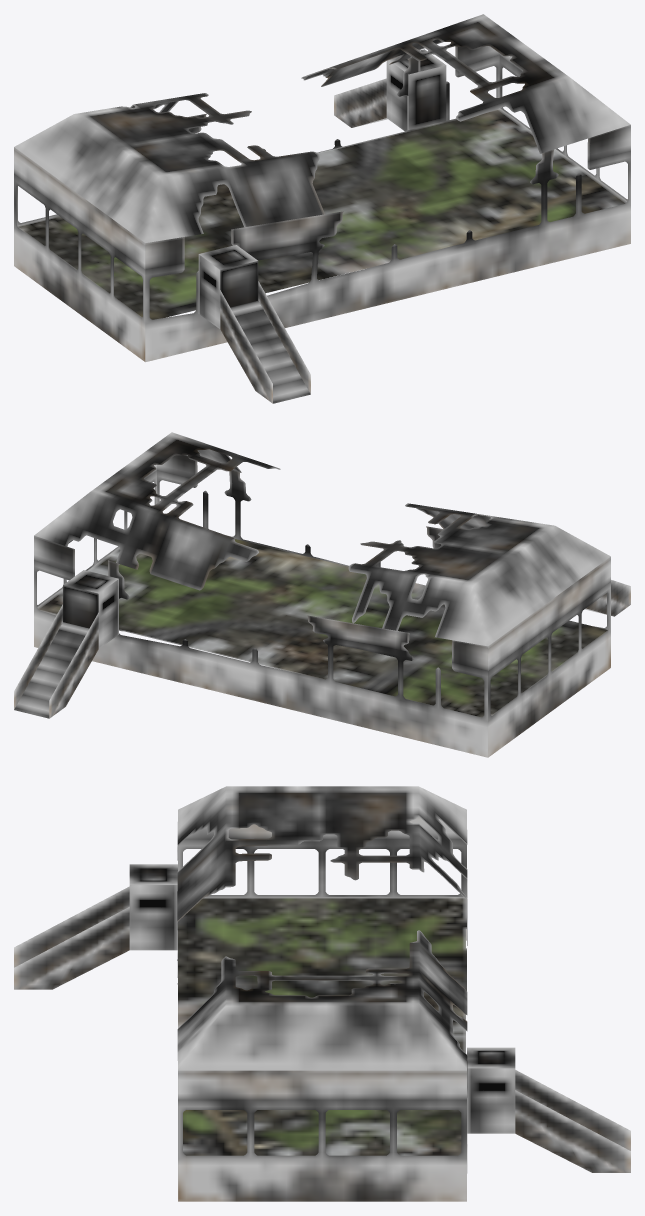
The model's file is terminal2_dam.glb.
The picture shows the model from 3 angles, top to bottom: view 1: azimuth 30°, elevation 25°; view 2: azimuth 150°, elevation 25°; view 3: azimuth 270°, elevation 25°; orthographic projection. The views are drawn at different scales.
Parts seen in each view (by area): view 1: outside, Stairs; view 2: outside, Stairs; view 3: outside, Stairs.
Boxes of the visible parts, x1,y1,x2,y2 form: outside: (14,14,630,362); Stairs: (198,49,446,403); outside: (34,432,610,757); Stairs: (14,570,630,718); outside: (177,786,467,1201); Stairs: (14,864,630,1172).
Size of the model in its own units: 25.6 by 8 by 25.6.
1 material, 1 textured.
